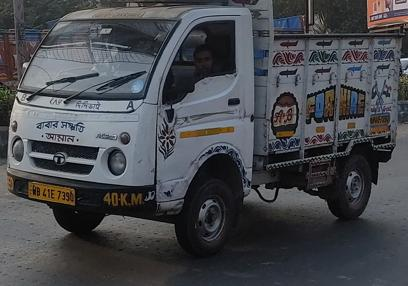Truck: (6, 4, 403, 259)
